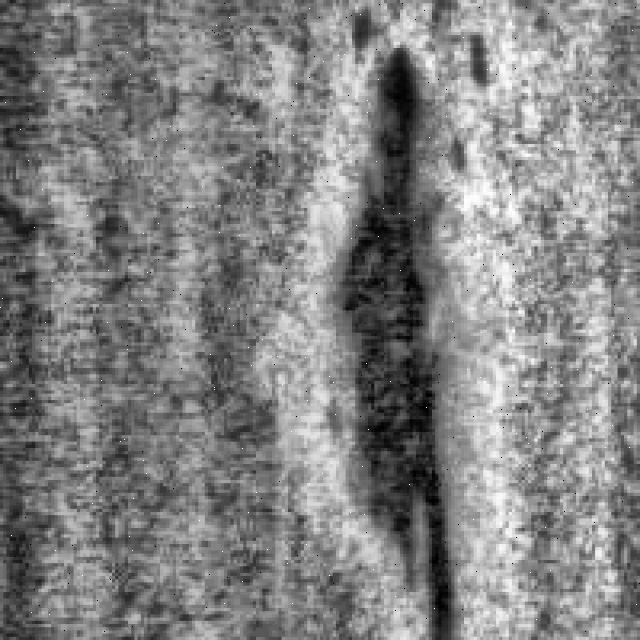Patches: (336, 32, 474, 634), (461, 12, 512, 102)
